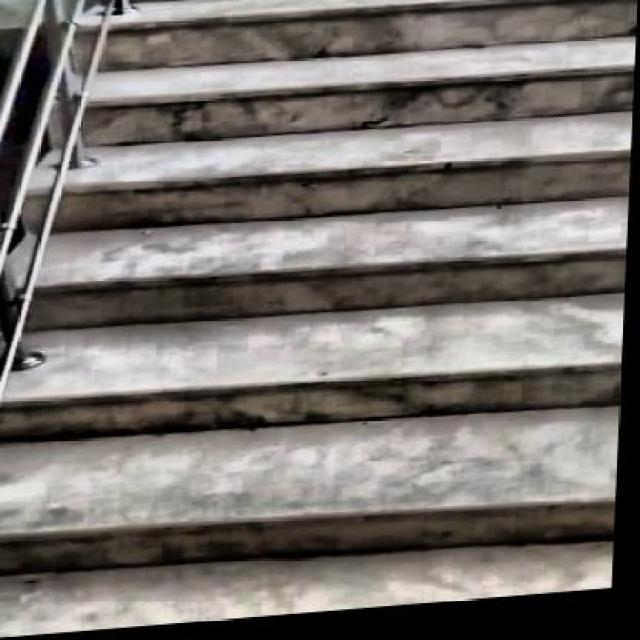stair: (27, 0, 638, 572)
